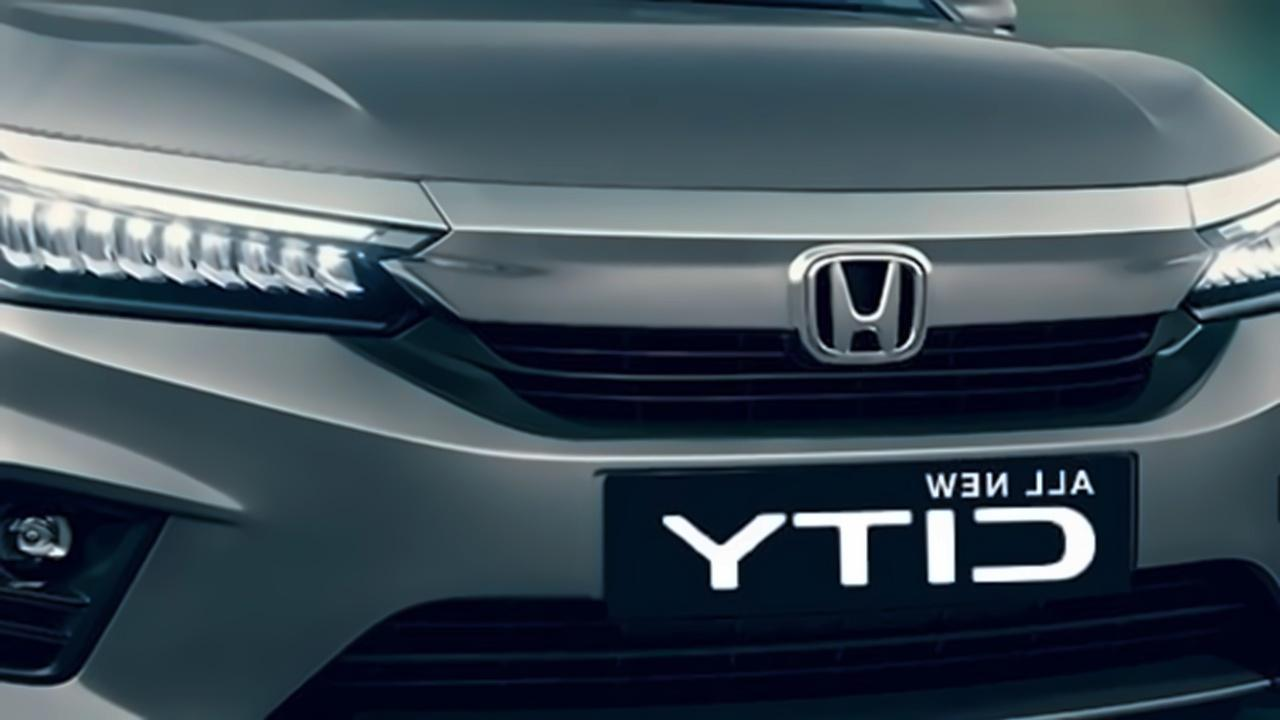Car hood: (0, 0, 1280, 201)
Front bumper: (0, 296, 1280, 720)
Headlight - -L-: (1170, 148, 1280, 331)
Headlight - -R-: (0, 119, 480, 348)
